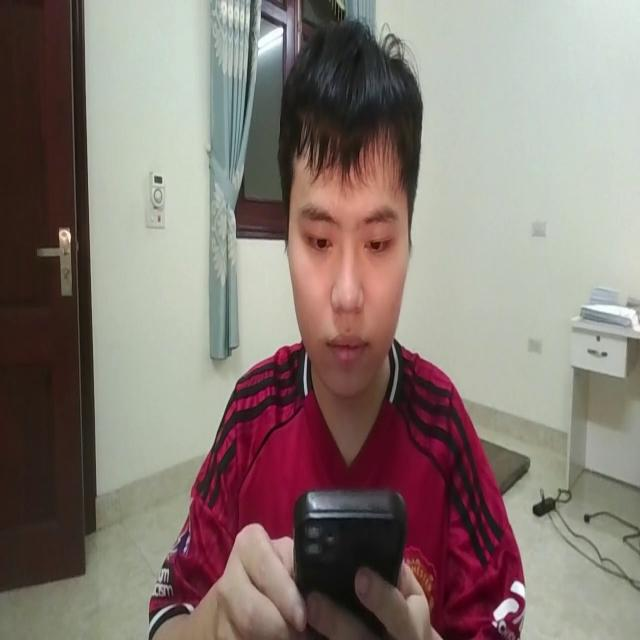phone: (289, 473, 410, 627)
student: (152, 10, 524, 640)
